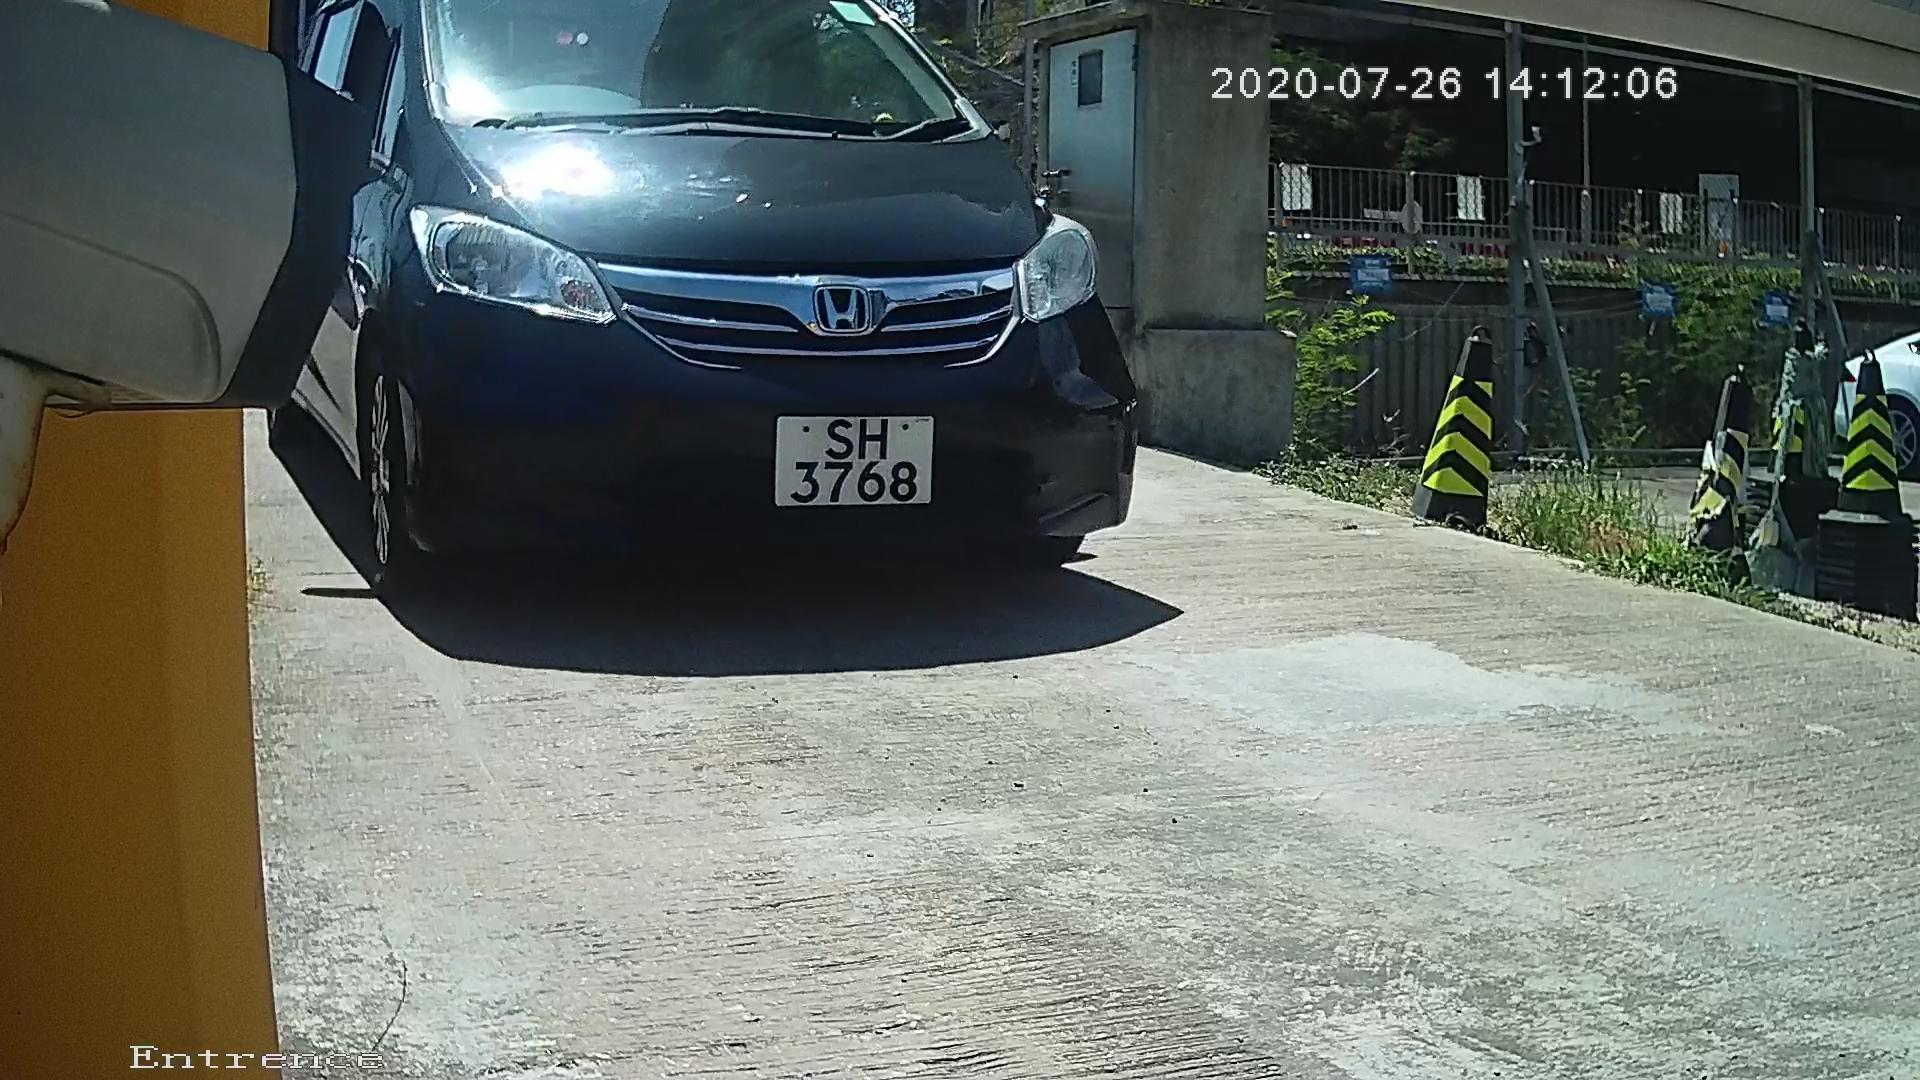privatecar: (258, 11, 1244, 651)
